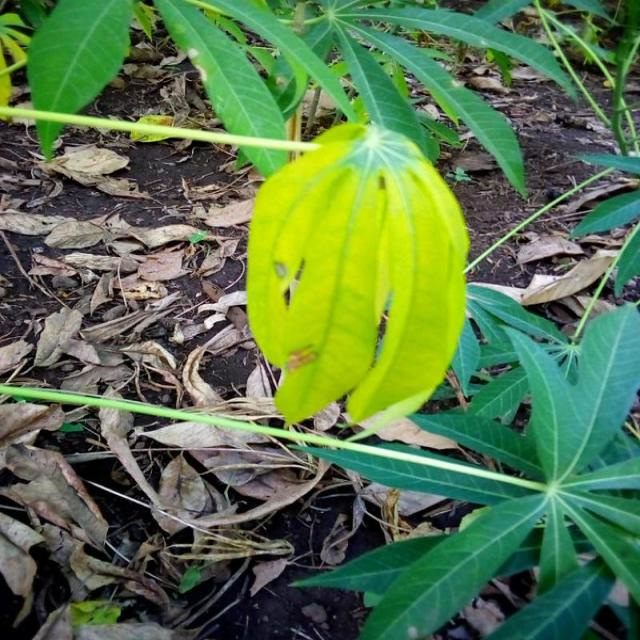cassava leaf: (245, 119, 470, 431)
